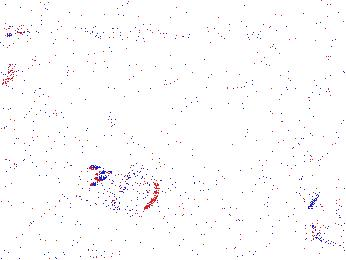flame jellyfish: (88, 162, 158, 216), (310, 187, 346, 245), (1, 39, 13, 84)
